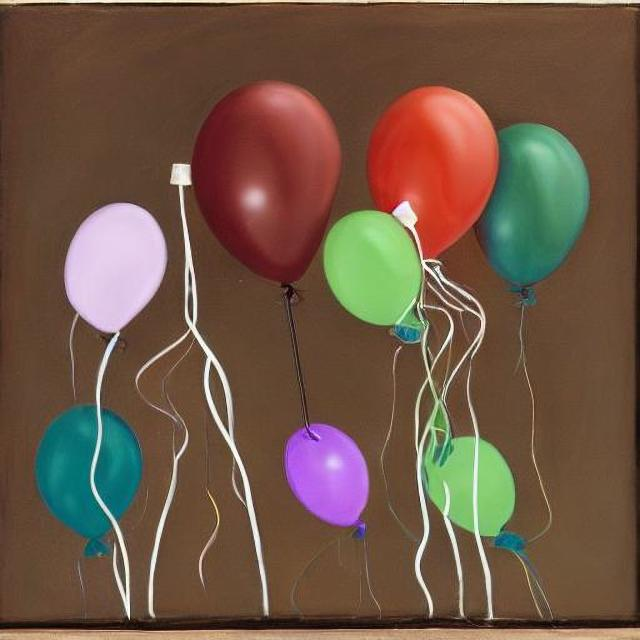balloon: (179, 76, 345, 282), (447, 121, 586, 292), (361, 82, 488, 247), (33, 402, 143, 560), (68, 196, 168, 341), (327, 202, 420, 340), (426, 422, 519, 546), (287, 419, 379, 524)
